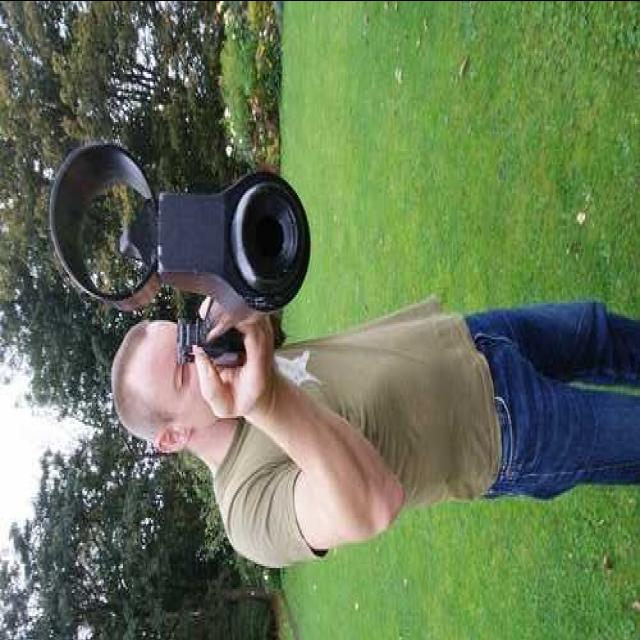heavyweapon: (164, 103, 330, 378)
